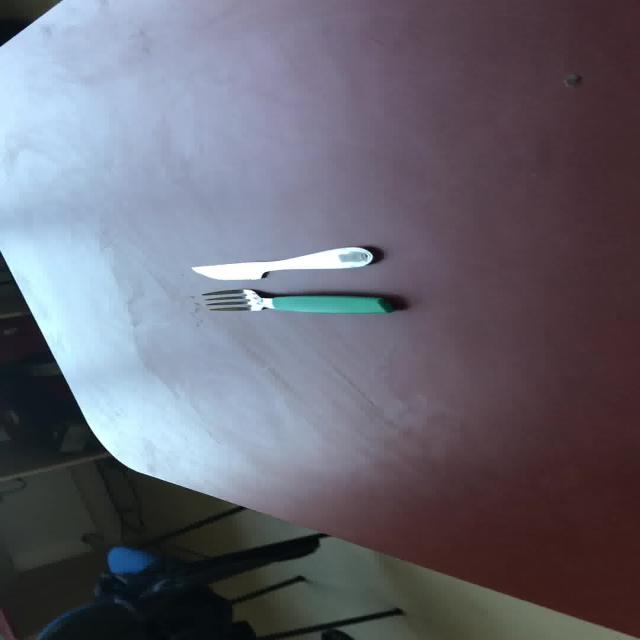fork: (200, 288, 394, 314)
knife fork: (189, 245, 374, 280)
